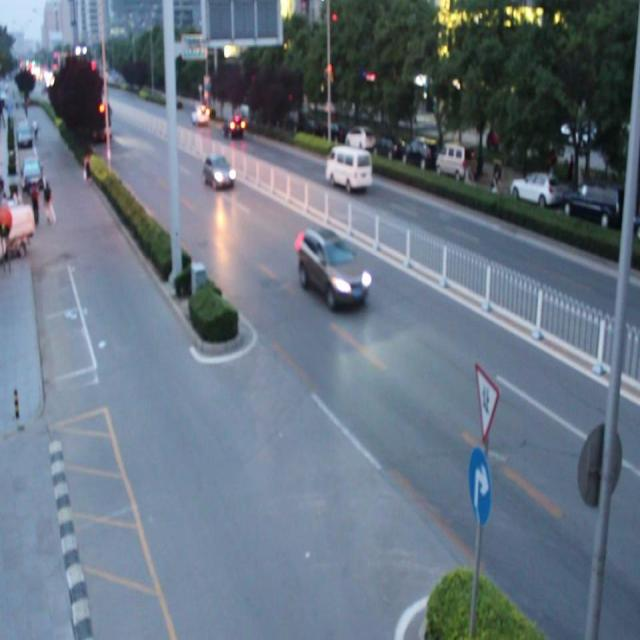car: (294, 226, 369, 313), (202, 152, 236, 190), (223, 112, 242, 136)
truck: (324, 144, 371, 195)
